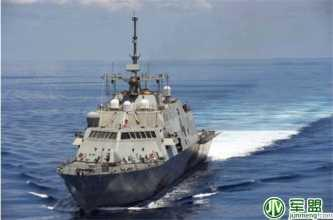warship: (53, 12, 217, 202)
